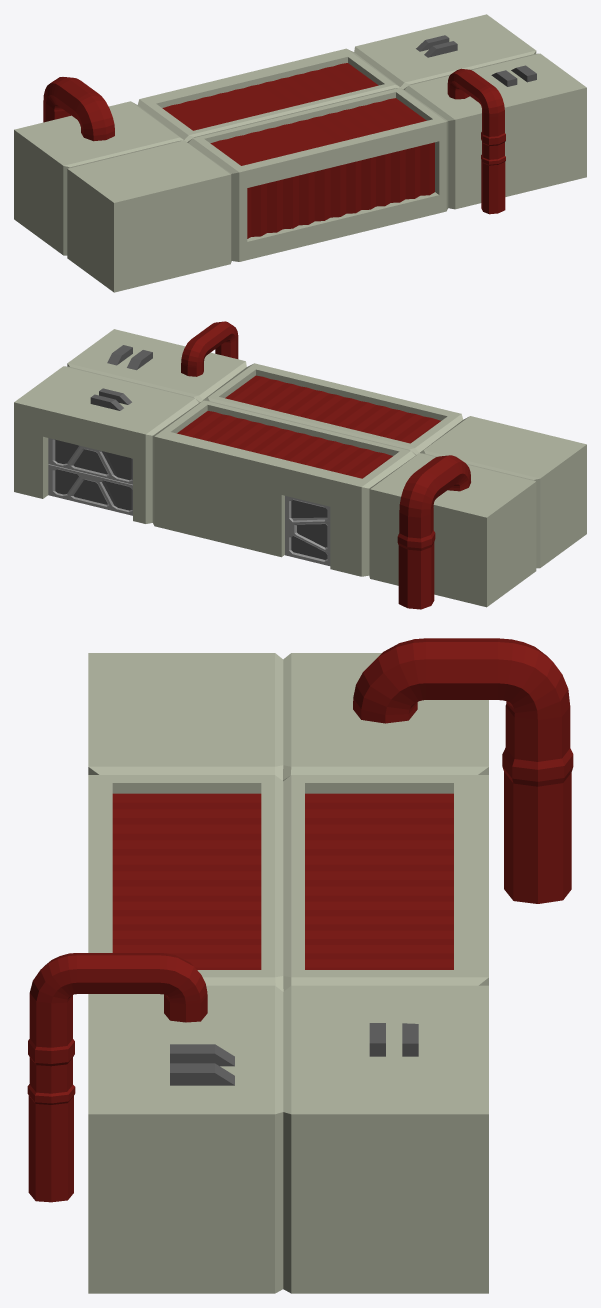
The picture shows the model from 3 angles, top to bottom: view 1: azimuth 30°, elevation 25°; view 2: azimuth 150°, elevation 25°; view 3: azimuth 270°, elevation 25°; orthographic projection. The views are drawn at different scales.
Parts seen in each view (by area): view 1: H_40X20X10; view 2: H_40X20X10; view 3: H_40X20X10.
Part boxes in pixels (x1,y1,x2,y2): H_40X20X10: [14, 14, 586, 292]; H_40X20X10: [14, 321, 586, 609]; H_40X20X10: [27, 638, 573, 1293].
Bounding box in the file's own units: 4000 × 1000 × 2000.
